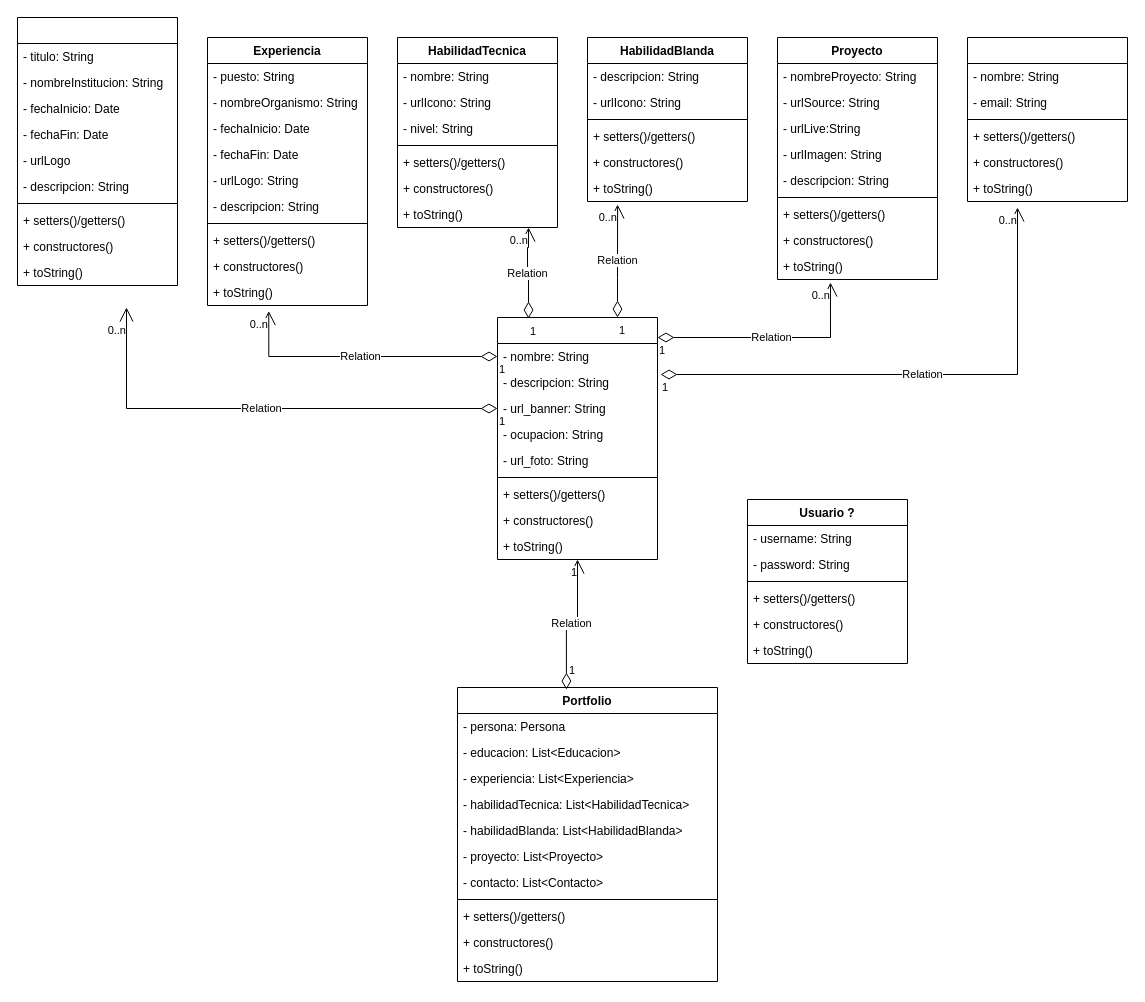
This 1145x1002 diagram has some shape labels left out. Each missing label, with the box of its shape:
Contacto: (966, 36, 1128, 202)
Educacion: (16, 16, 178, 286)
Persona: (496, 316, 658, 560)
